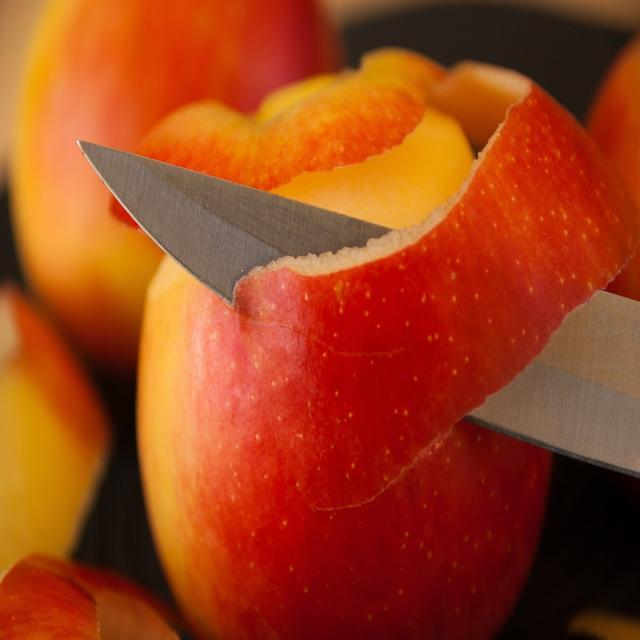Knife: (81, 142, 390, 302), (468, 291, 640, 474)
